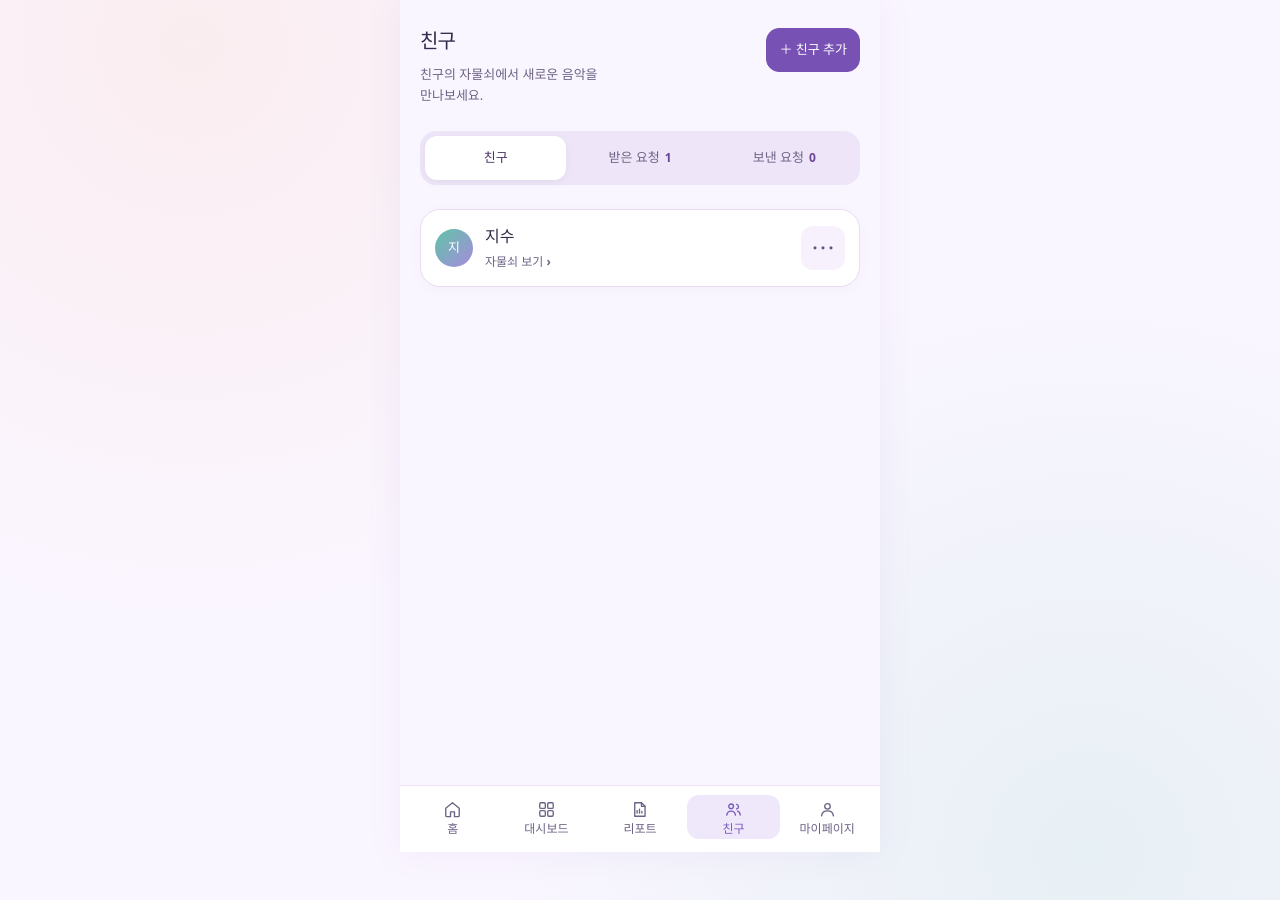
Test: FriendsPage › opens a friend dashboard and accepts a received request
This screenshot has width=1280, height=900.
Click the tab "받은 요청 1" at (640, 158), box [569,136,711,180]
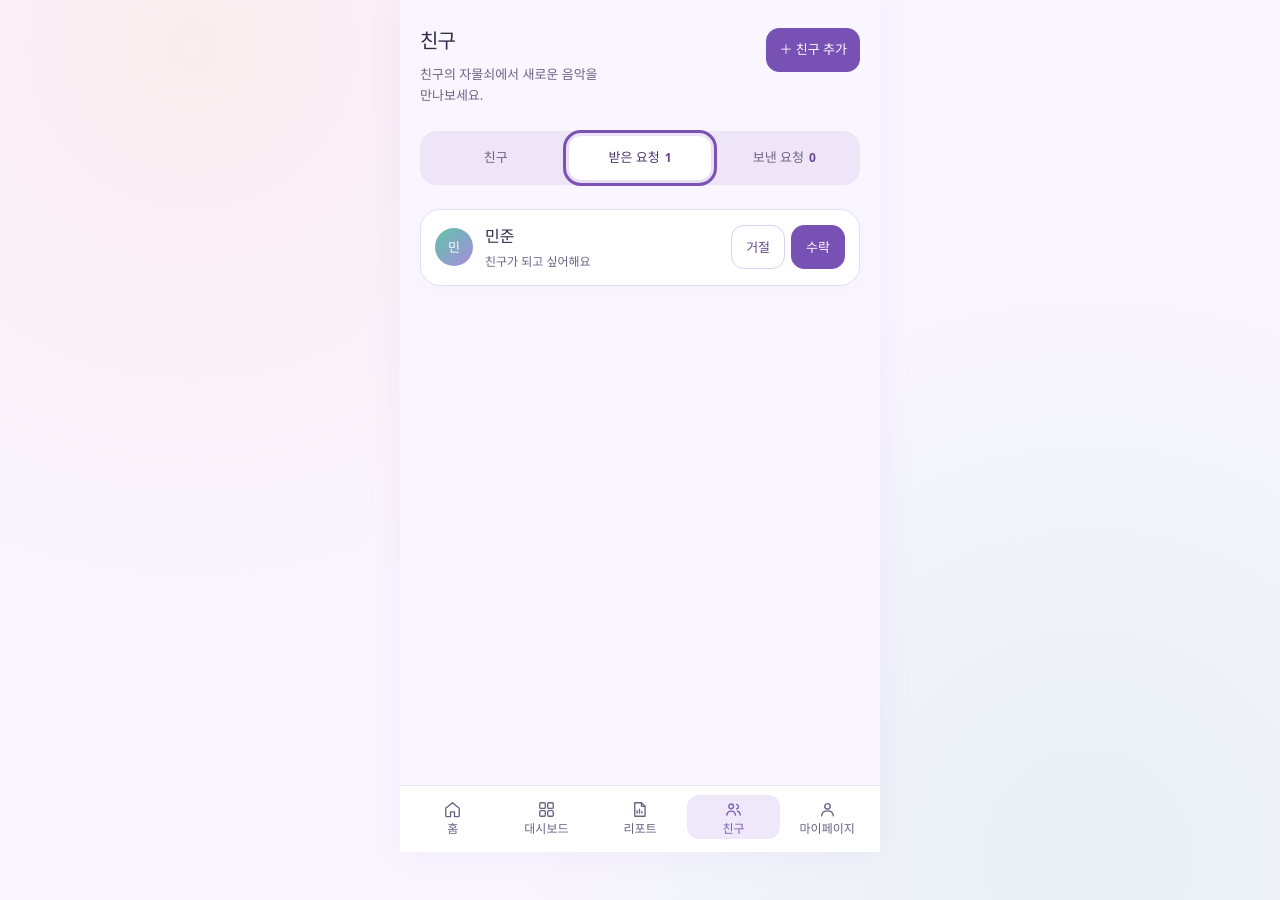
Check: the text "민준" is shown, box [485,225,514,247]
Click the button "수락" at (818, 247), box [791,225,845,269]
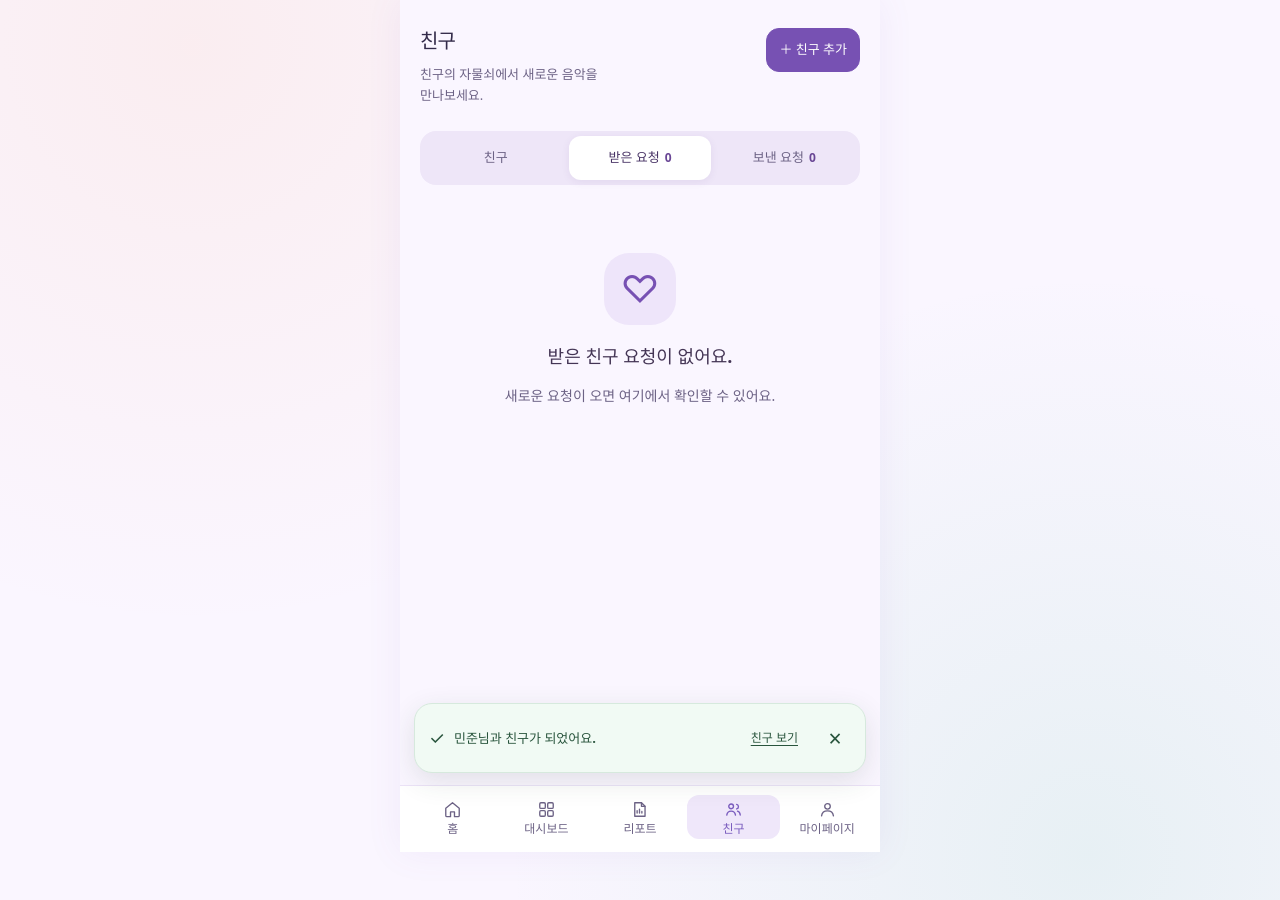
Check: the message reads "민준님과 친구가 되었어요.", box [454,729,596,747]
